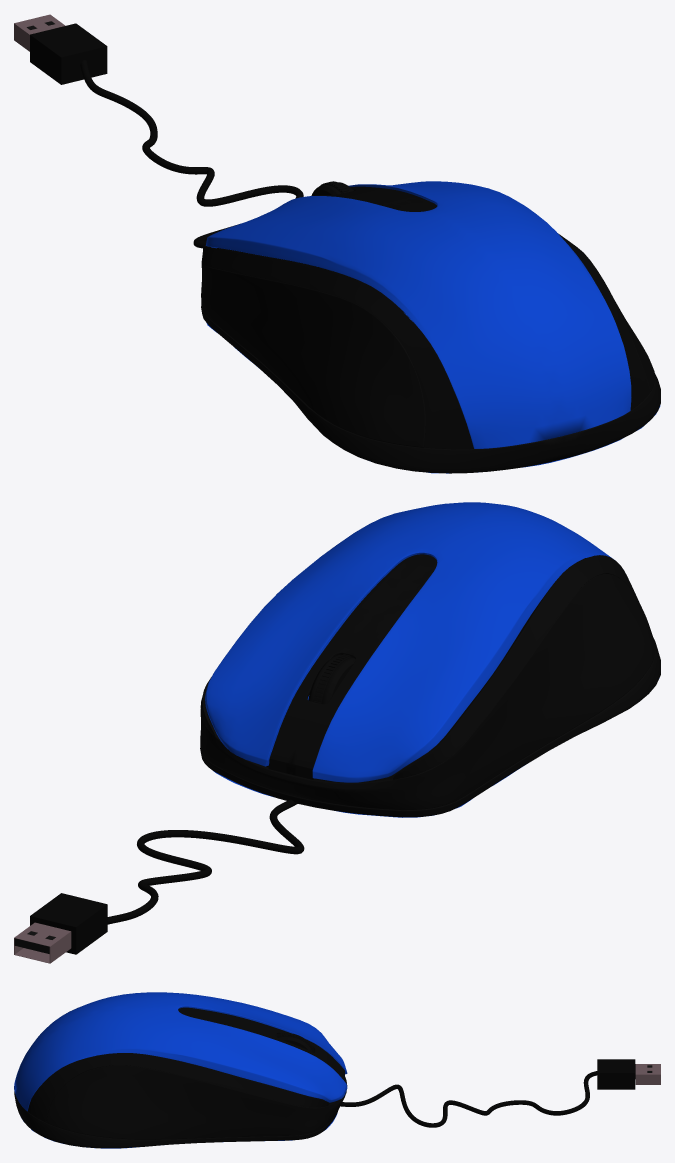
3 views of the same model, one above another, from view 1: azimuth 30°, elevation 25°; view 2: azimuth 150°, elevation 25°; view 3: azimuth 270°, elevation 25° (orthographic). The views are drawn at different scales.
Parts seen in each view (by area): view 1: BézierCurve, BézierCurve.001, NurbsPath; view 2: BézierCurve, BézierCurve.001, NurbsPath; view 3: BézierCurve, BézierCurve.001, NurbsPath.
Boxes of the visible parts, x1,y1,x2,y2 form: BézierCurve: (201, 181, 660, 473); BézierCurve.001: (14, 14, 107, 84); NurbsPath: (80, 60, 303, 248); BézierCurve: (200, 502, 660, 817); BézierCurve.001: (14, 893, 107, 963); NurbsPath: (107, 799, 304, 924); BézierCurve: (14, 992, 347, 1148); BézierCurve.001: (597, 1059, 660, 1089); NurbsPath: (340, 1071, 597, 1127).
Bounding box in the file's own units: 6.8 × 3.45 × 20.31.
